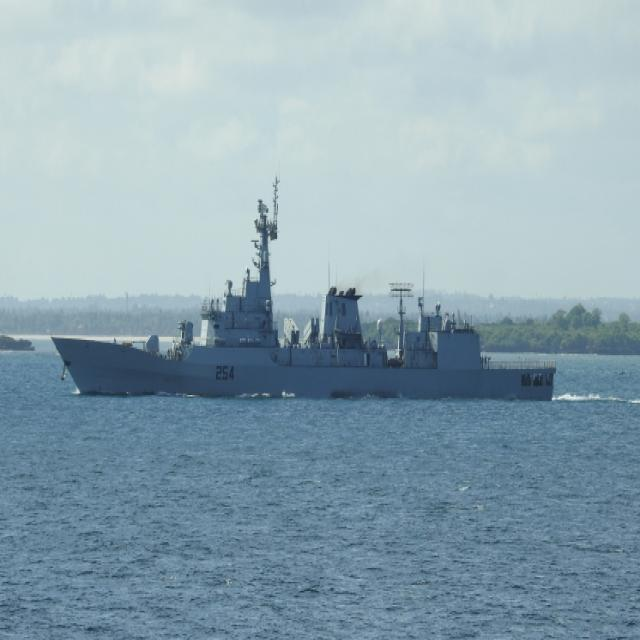Fragata: (51, 172, 560, 407)
